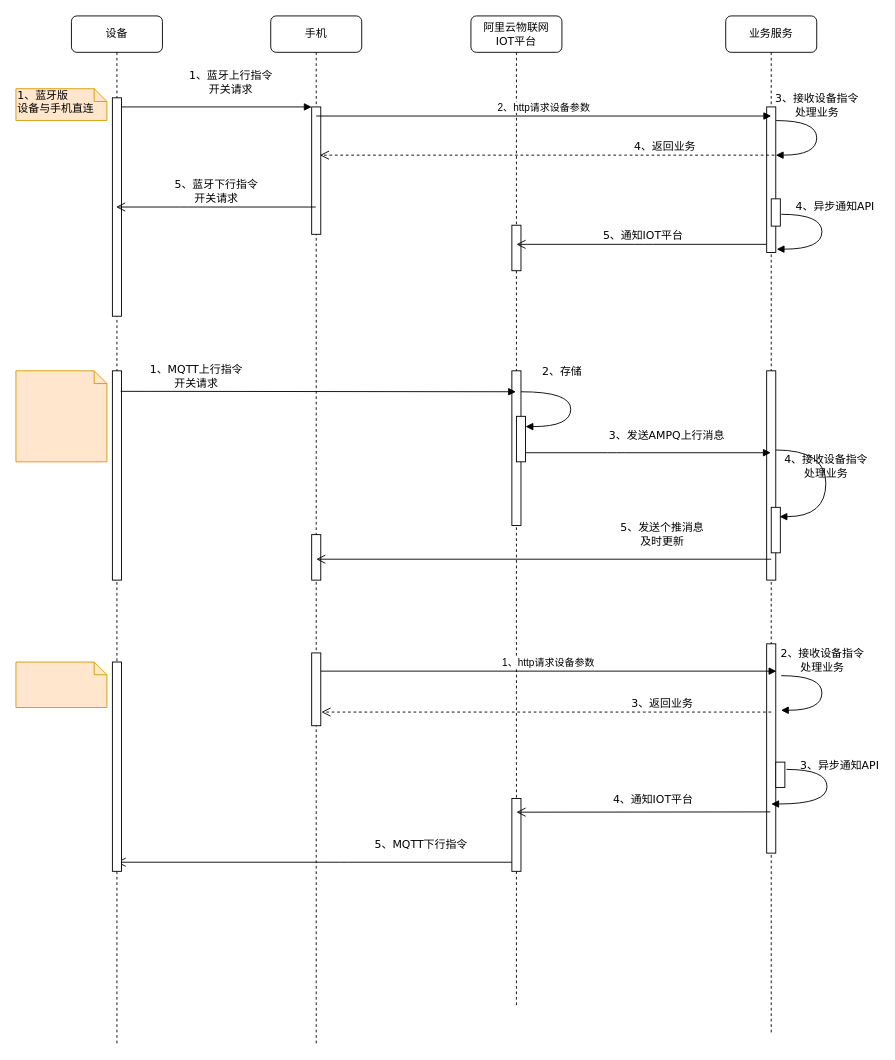
The diagram is 895 pixels wide and 1060 high, and some of its shapes have lost their labels. Each missing label, with the centre of its shape:
"2、WIFI版 设备集成阿里云物联网SDK linux系统C语言开发" belongs at pixel 61 416.
"3、手机智能控制端" belongs at pixel 61 684.
